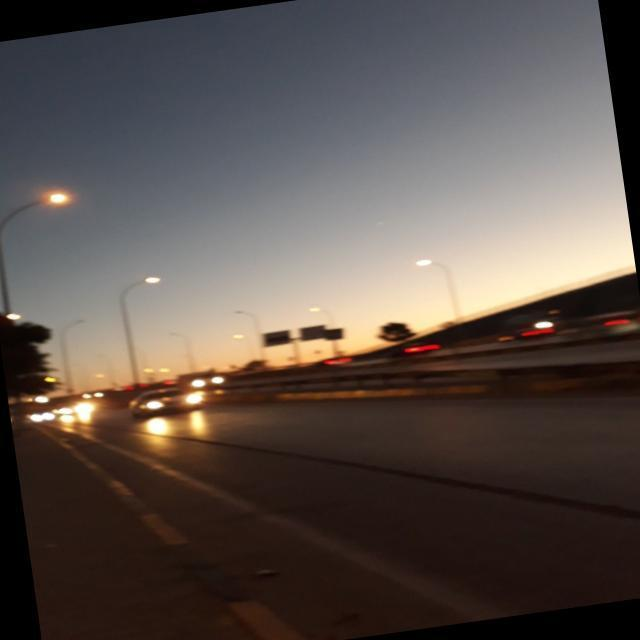on: (122, 256, 202, 354), (45, 165, 94, 236)
